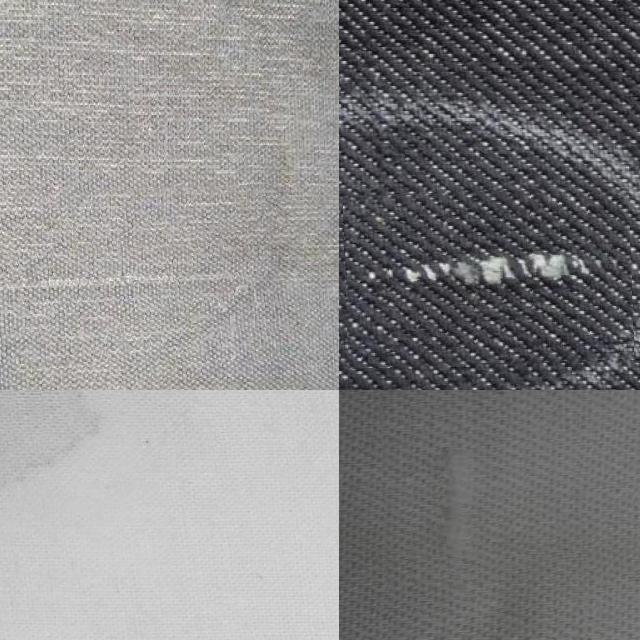Thread_other: (0, 390, 123, 514)
stains: (0, 184, 305, 390), (345, 188, 633, 366), (382, 390, 584, 640)
